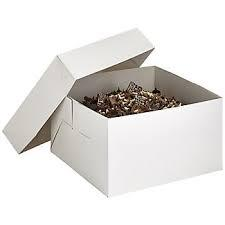Cardboard: (5, 18, 225, 198)
